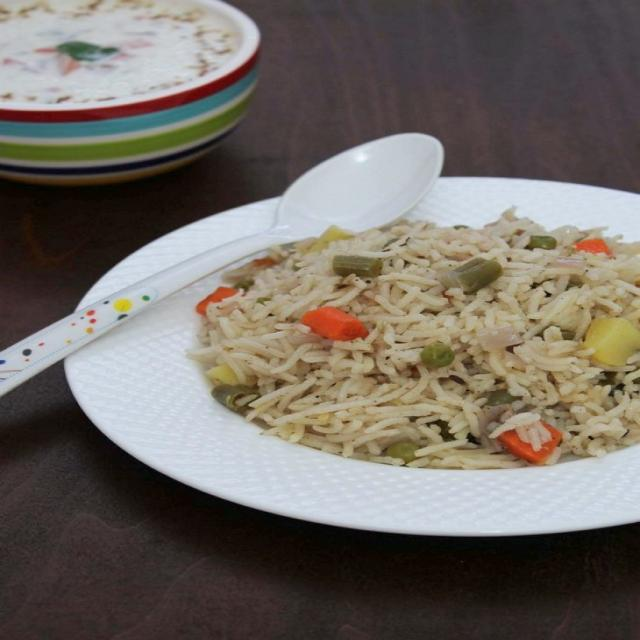veg palav: (180, 204, 640, 483)
